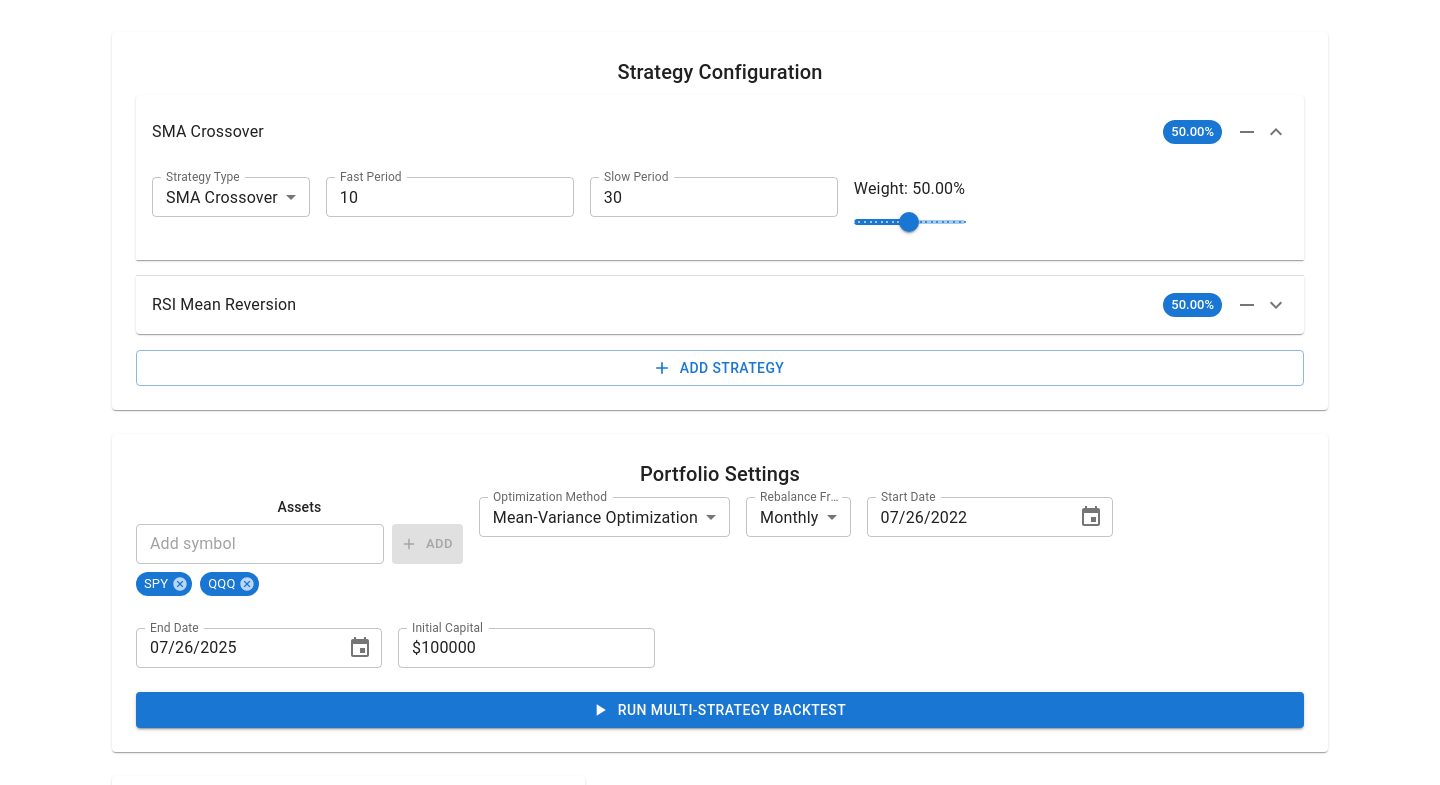
Scenario: MultiStrategyAnalyzer › disables run button when no assets
The width and height of the screenshot is (1440, 785).
Click the 1st icon with test id "CancelIcon": (180, 584) [172,576,188,592]
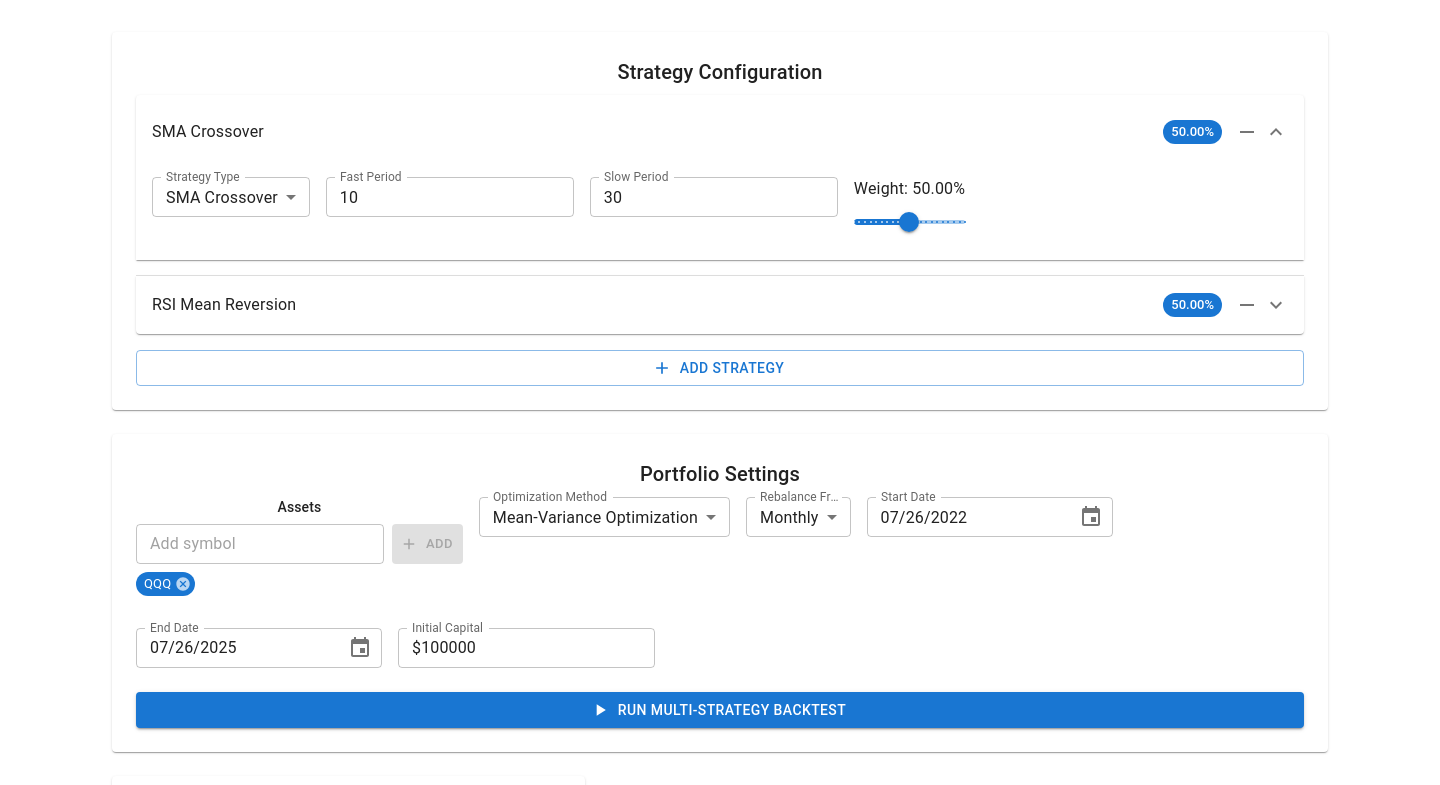
Click the icon with test id "CancelIcon": (183, 584) [175,576,191,592]
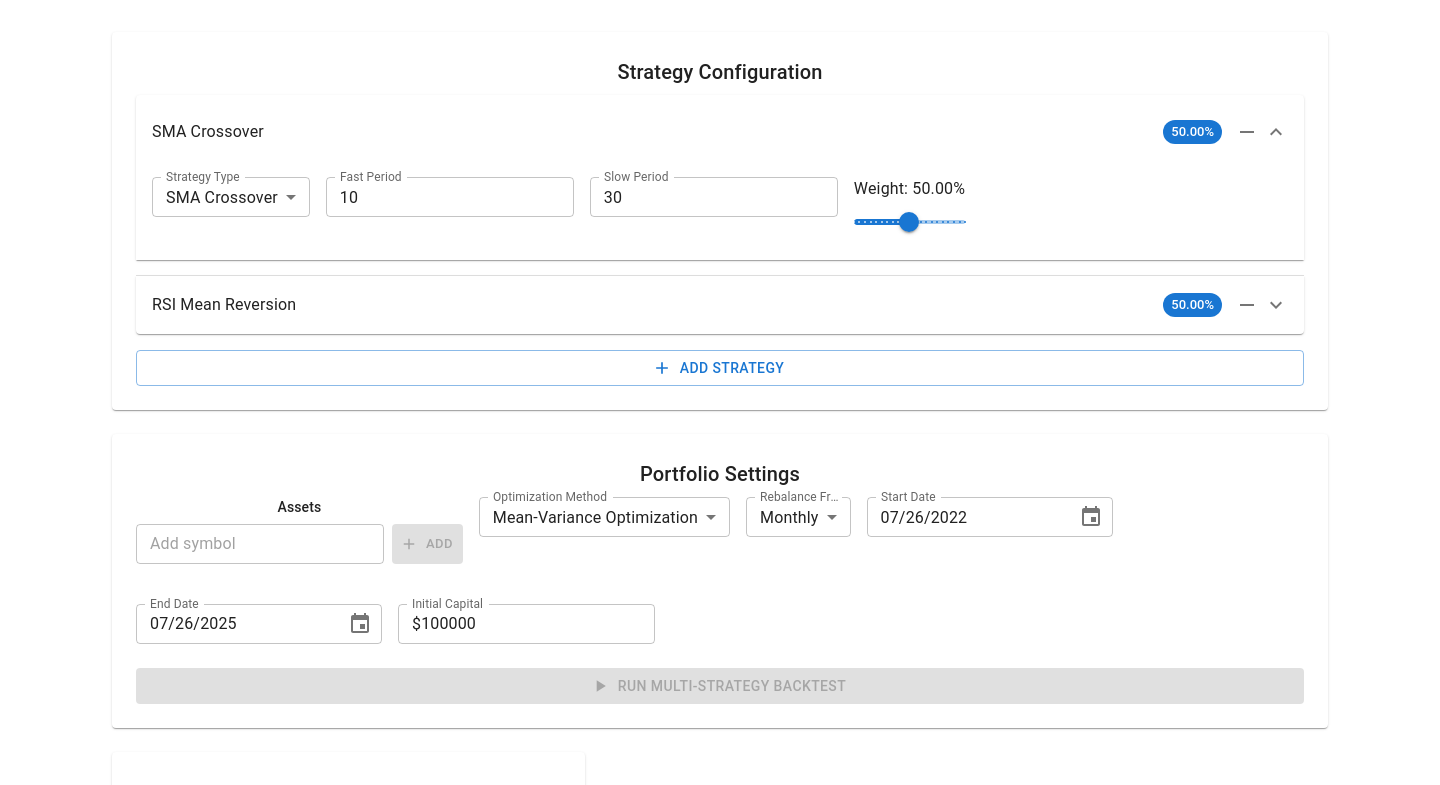
Now the button "Run Multi-Strategy Backtest" is disabled, box [136,668,1304,704]
